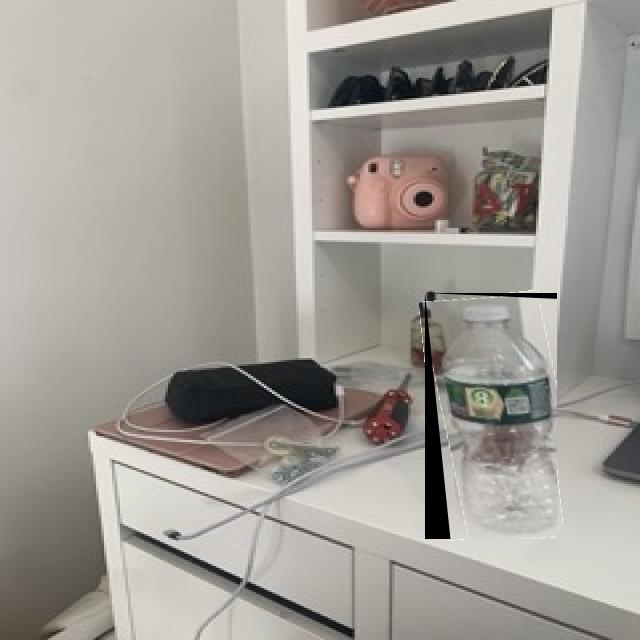water_bottle: (425, 293, 557, 539)
